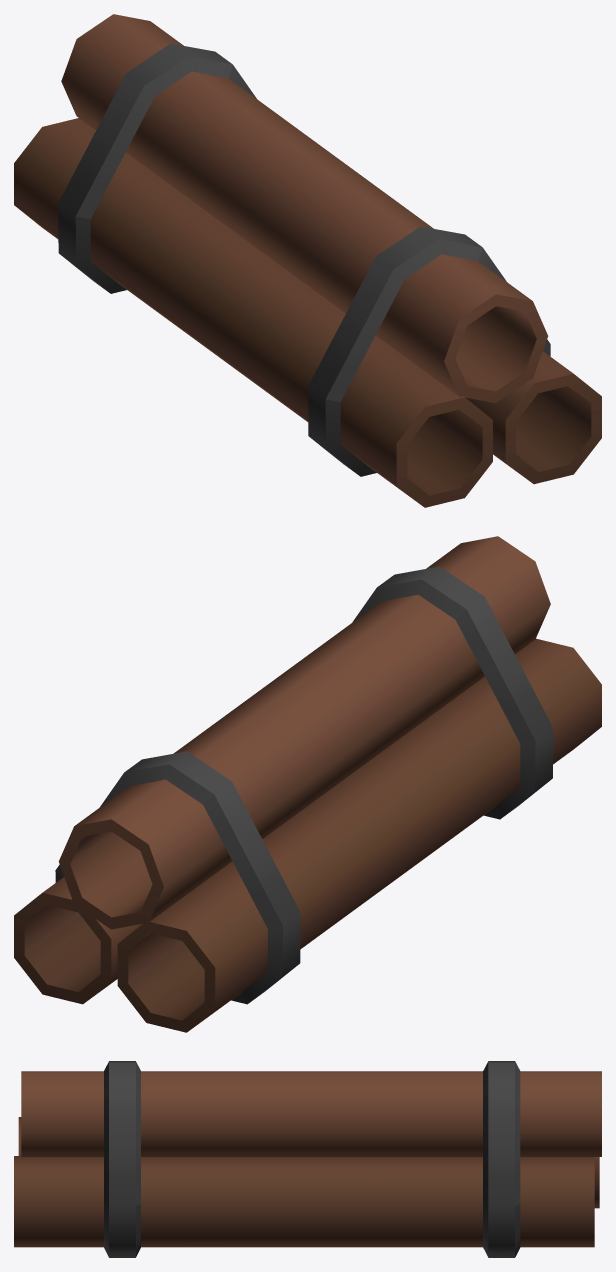
File: Pipes_C_2_1.fbx
The picture shows the model from 3 angles, top to bottom: view 1: azimuth 30°, elevation 25°; view 2: azimuth 150°, elevation 25°; view 3: azimuth 270°, elevation 25°; orthographic projection. The views are drawn at different scales.
Visible parts, largest first — view 1: Pipes_C_2_1; view 2: Pipes_C_2_1; view 3: Pipes_C_2_1.
Boxes of the visible parts, x1,y1,x2,y2 form: Pipes_C_2_1: (14,14,601,507); Pipes_C_2_1: (14,536,601,1032); Pipes_C_2_1: (14,1061,601,1257).
Bounding box in the file's own units: 119 × 111 × 355.
